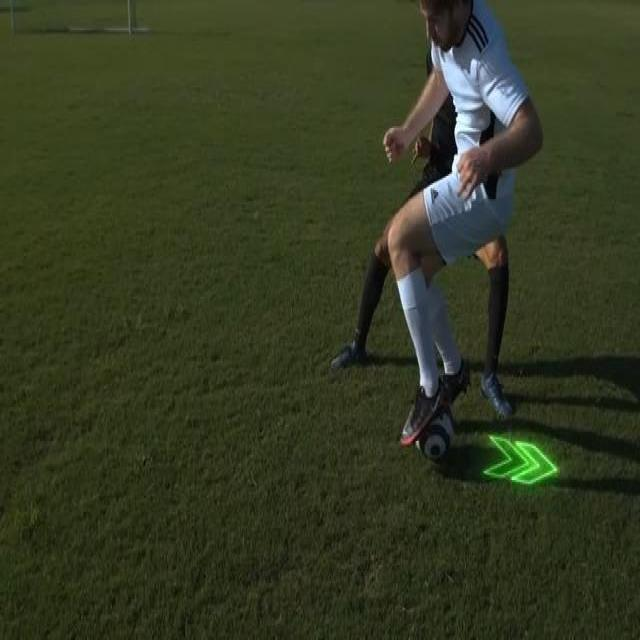Soccer Ball: (412, 392, 453, 467)
